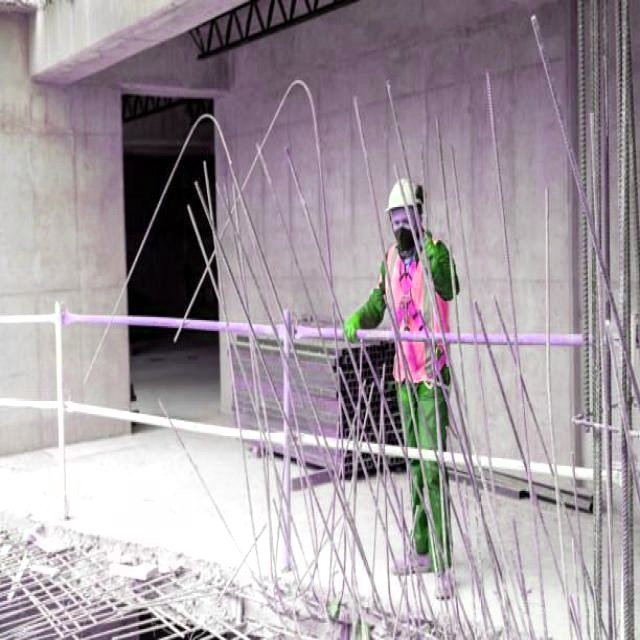safety belt: (368, 242, 493, 417)
